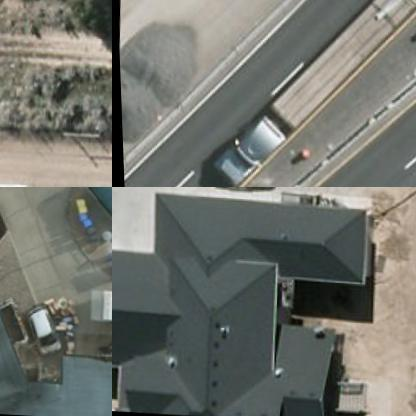car: (20, 303, 63, 357)
truck: (199, 0, 415, 186)
van: (81, 187, 111, 230)
